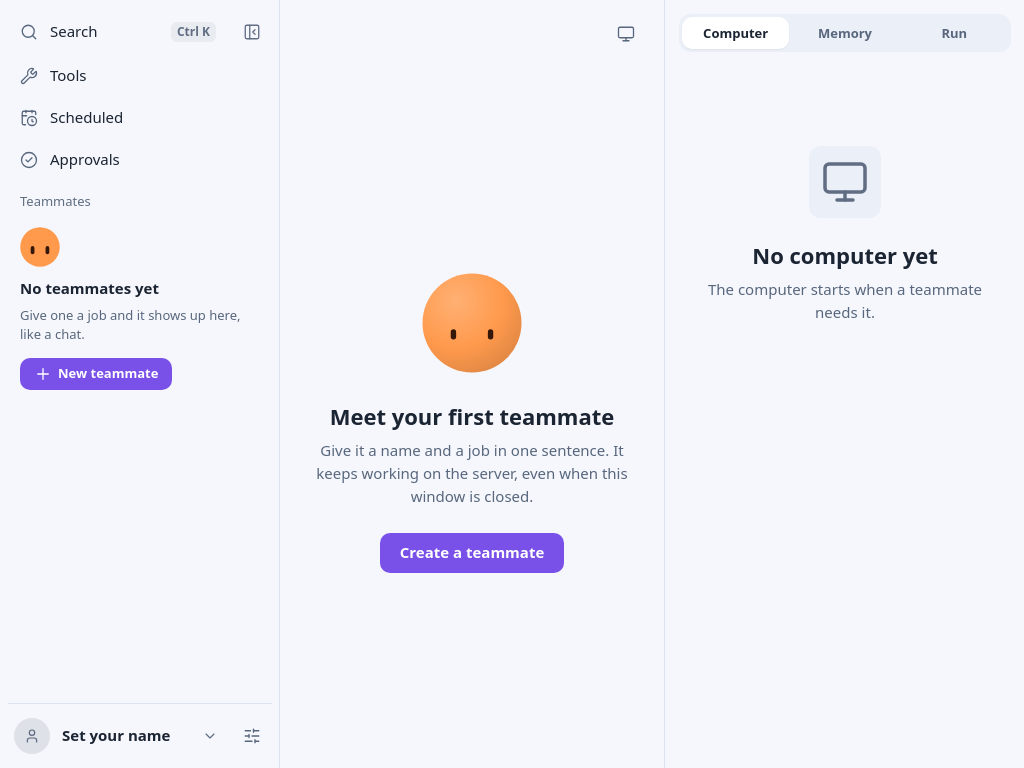
Test: teammates landing › says when the chosen connection disappeared
Click the button "Create a teammate" at [472, 553], box [380,533,564,573]
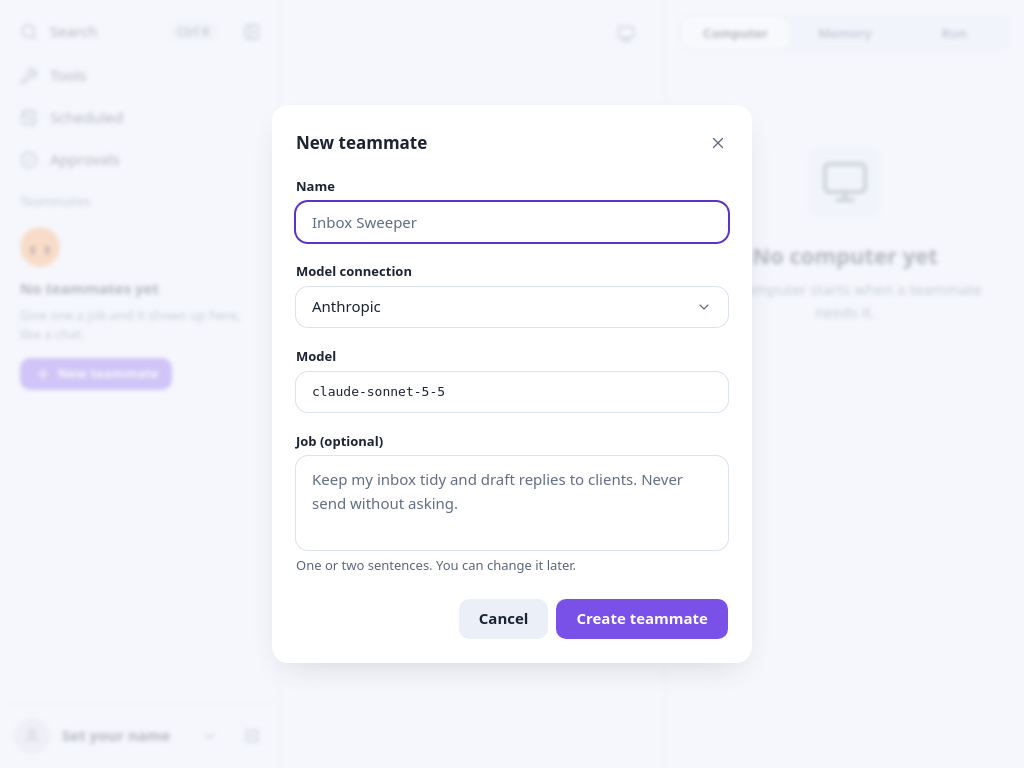
Type "Scout" into the field labelled "Name" at [512, 222], box [296,202,728,242]
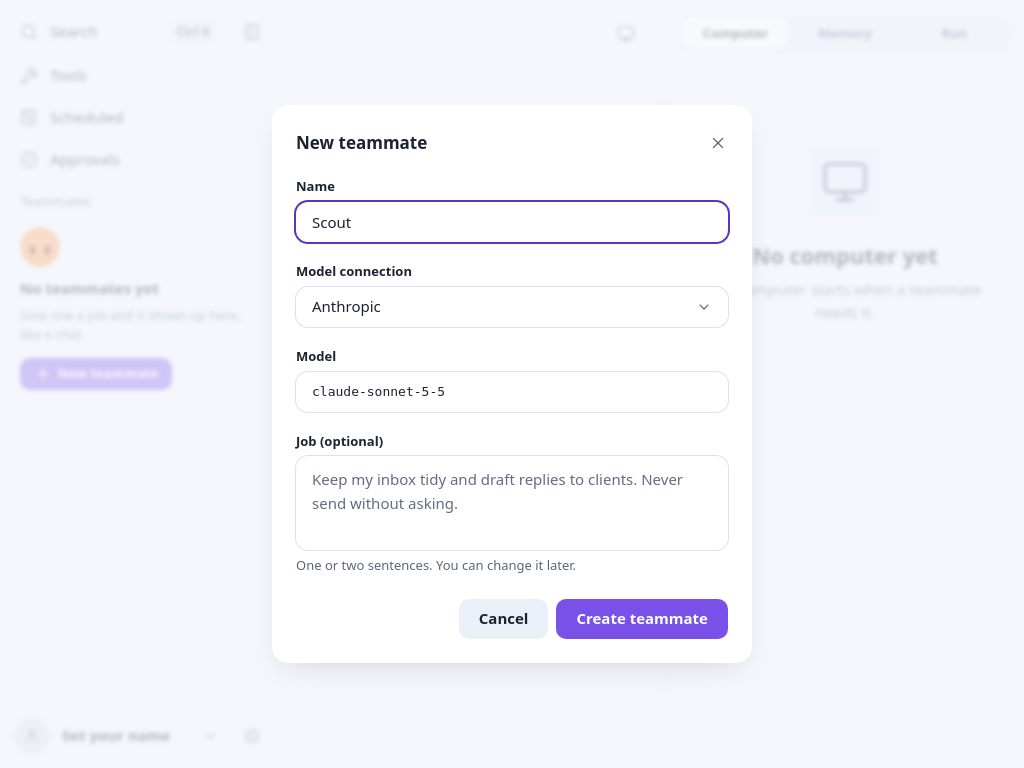
Click the button "Create teammate" at [642, 619], box [556,599,728,639]
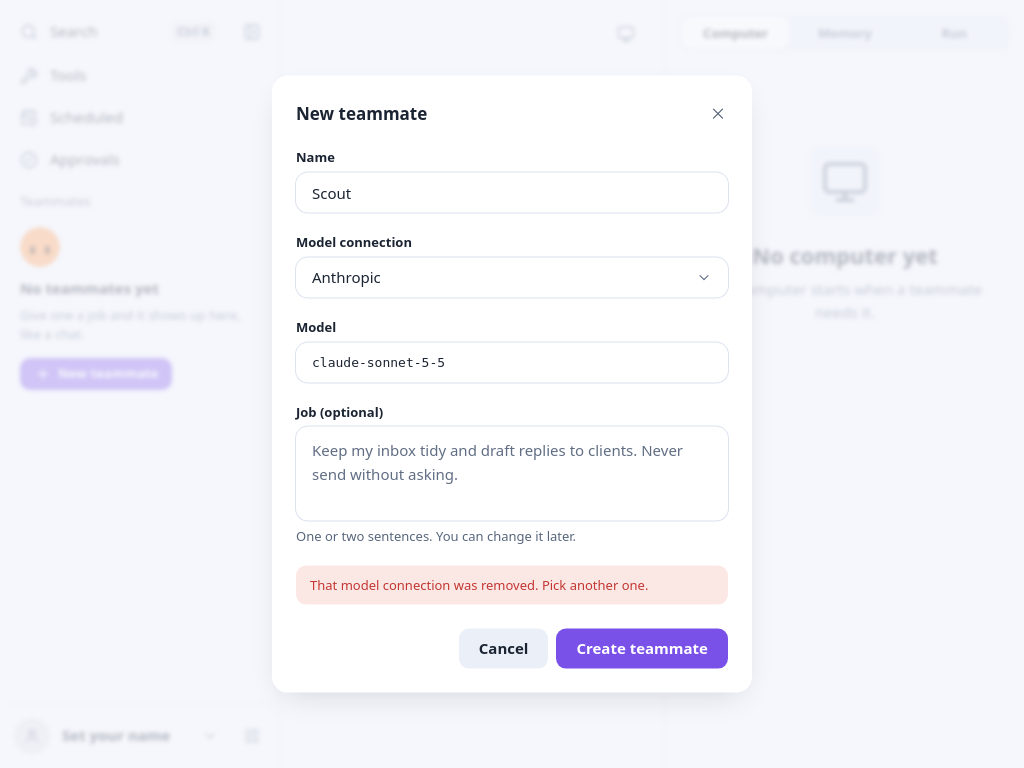
Expected: the message shows "connection was removed", [310,576,648,594]
